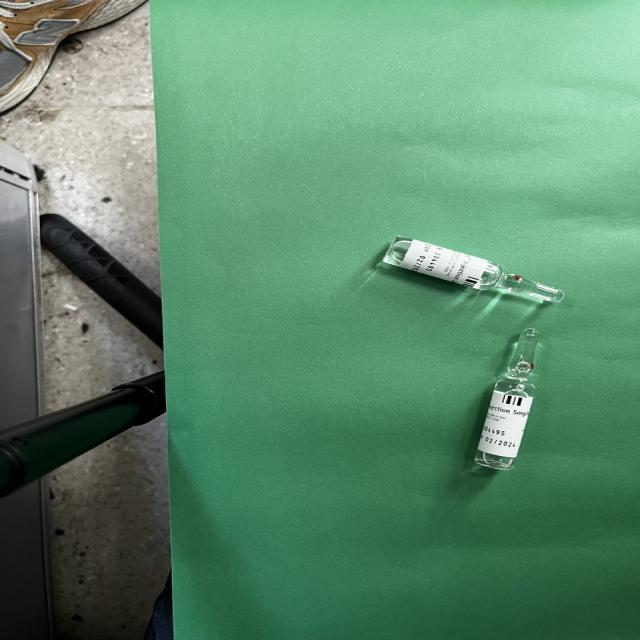Ampoules: (382, 236, 563, 304), (474, 328, 539, 470)
